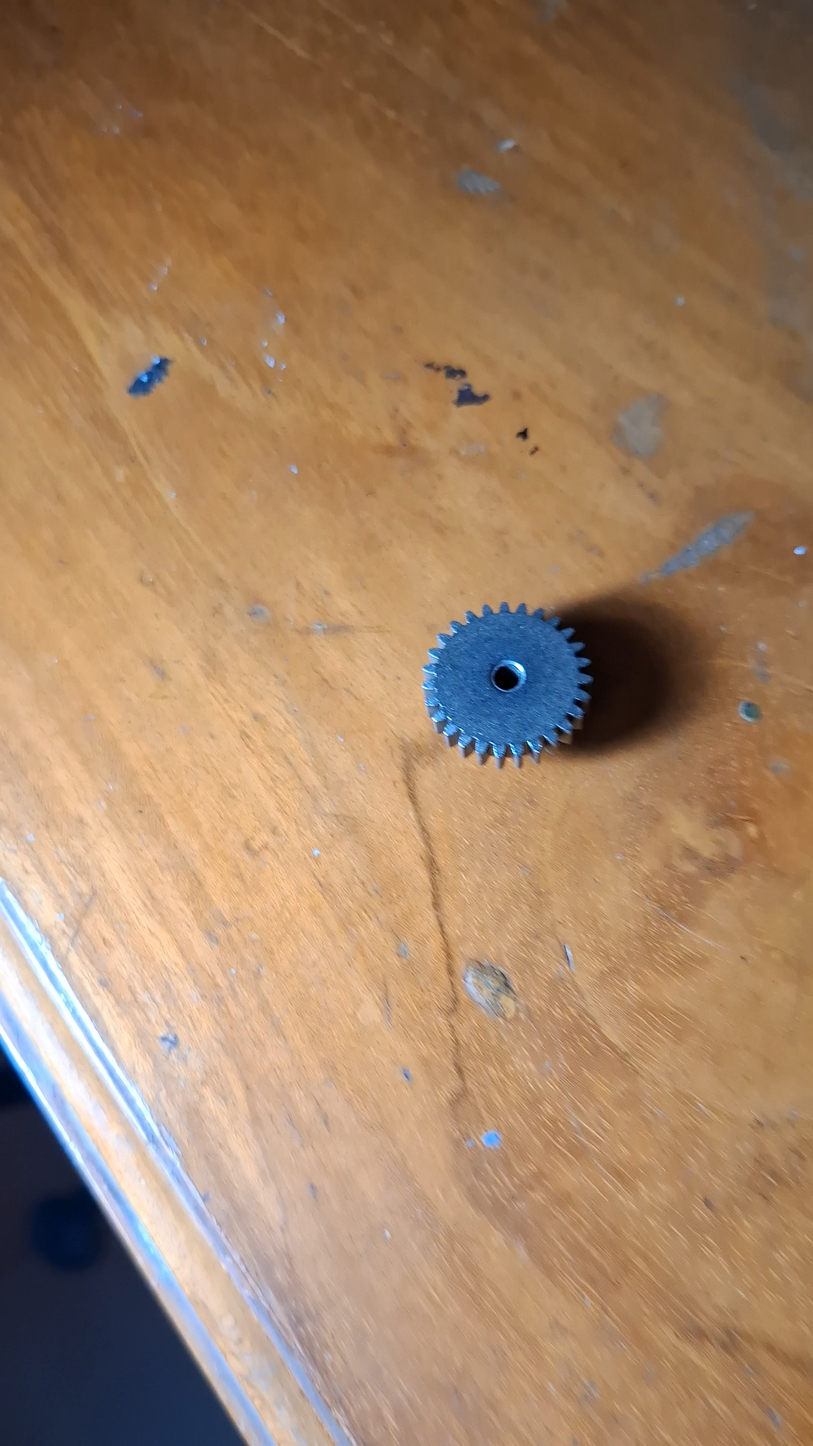spur gear: (423, 603, 592, 766)
